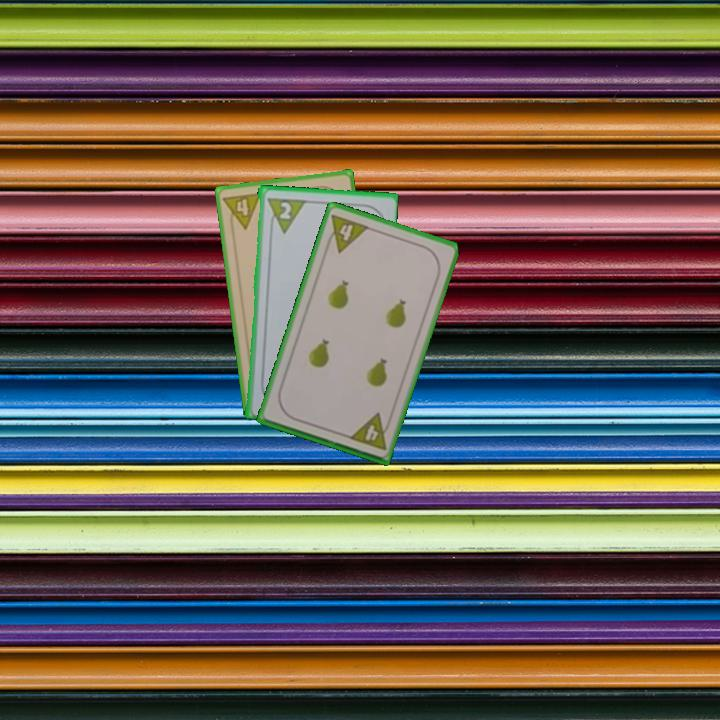2p: (276, 198, 294, 222)
4p: (322, 210, 372, 255), (345, 410, 394, 453), (220, 189, 264, 233)
